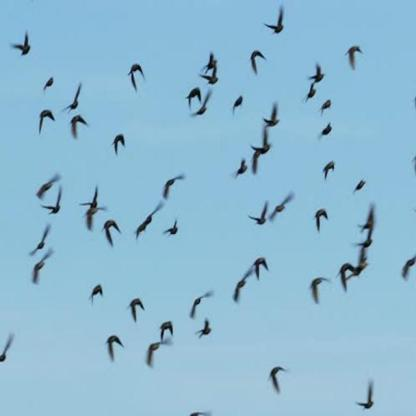bird: (19, 217, 58, 265), (136, 200, 163, 249), (183, 288, 220, 323), (138, 337, 173, 372), (157, 165, 189, 203), (92, 332, 125, 367), (123, 290, 154, 327), (351, 376, 381, 414), (262, 5, 290, 44), (58, 78, 86, 117), (101, 130, 130, 167), (264, 357, 293, 394), (306, 271, 332, 309), (100, 217, 128, 252), (124, 55, 148, 94), (241, 43, 270, 75), (33, 102, 59, 136), (189, 313, 215, 347), (260, 98, 285, 133), (340, 41, 368, 71), (308, 51, 332, 86), (311, 203, 333, 239), (10, 28, 34, 60), (92, 283, 111, 316), (201, 67, 224, 91), (163, 217, 184, 242), (321, 156, 337, 183)
